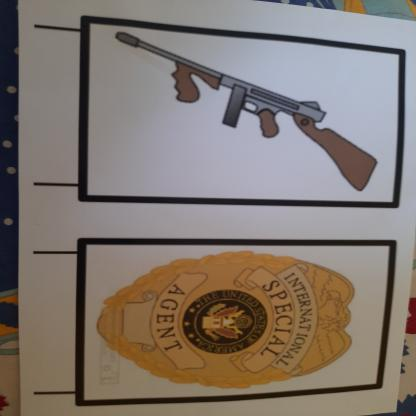Bootlegger: (107, 29, 396, 196)
G-man: (85, 248, 378, 392)
